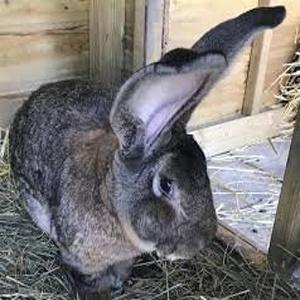rabbit: (16, 7, 287, 300)
